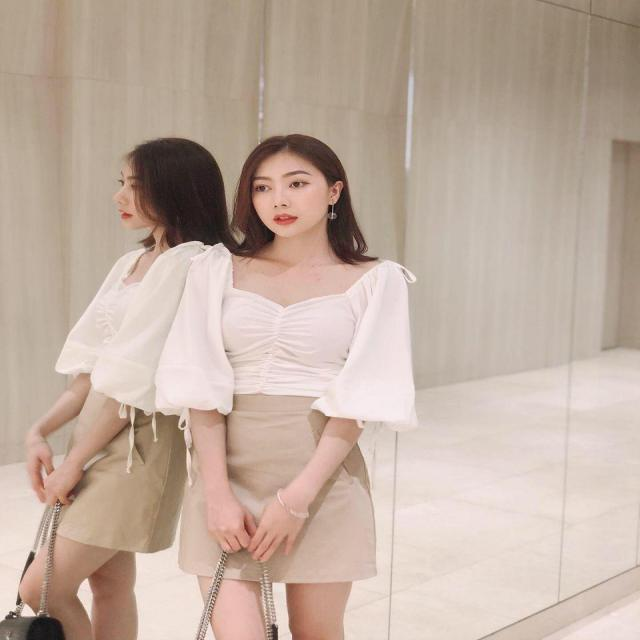clothes: (183, 244, 410, 588), (56, 238, 221, 556)
